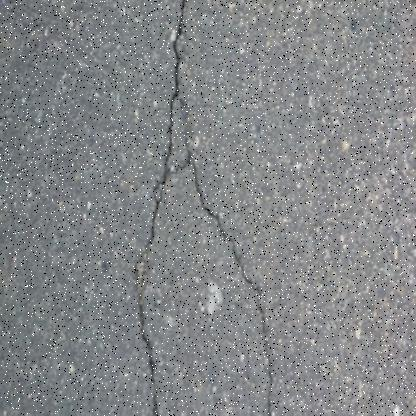Cracks: (132, 0, 279, 416)
